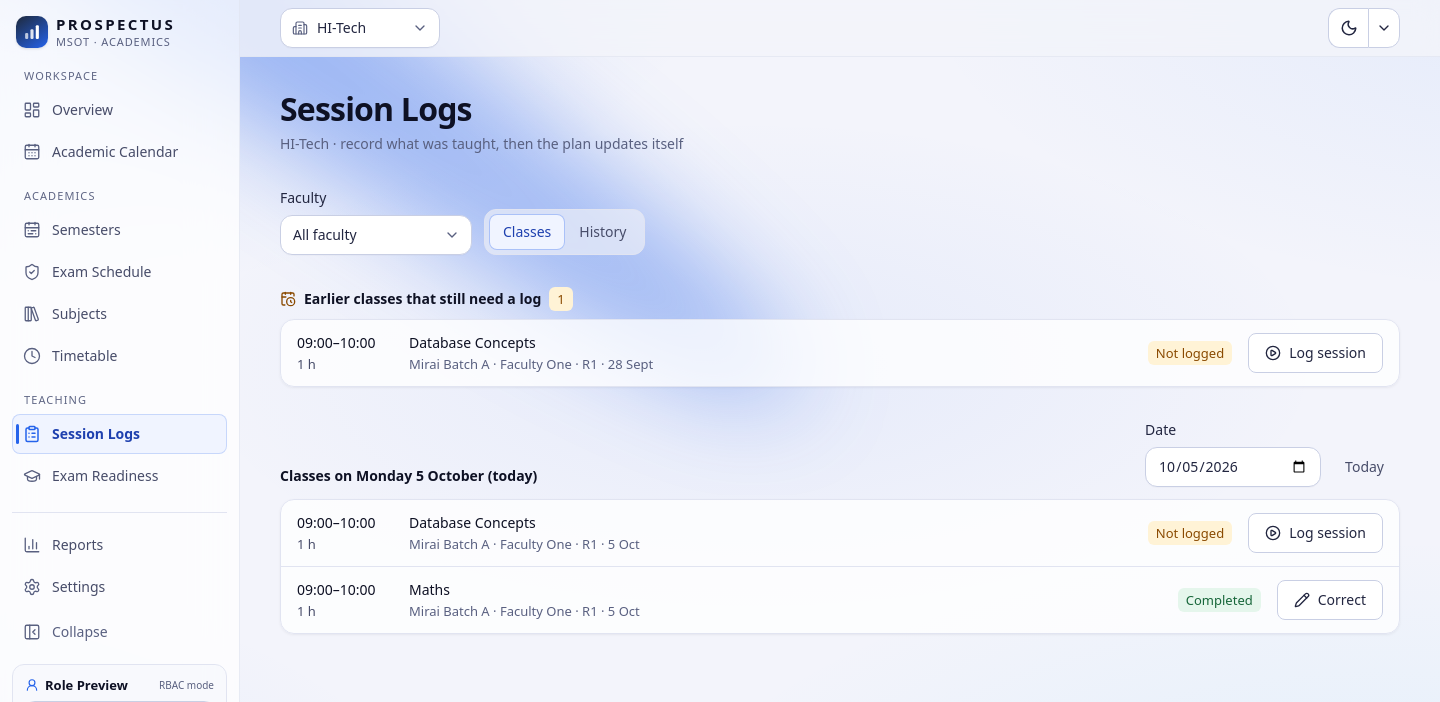
Scenario: Session Logs page › adapts the form to the outcome: cancelled asks for a reason and a reschedule date, merged asks for the primary session
Click the button with aria-label "Log session for Database Concepts, Mirai Batch A, 5 Oct" at (1316,533), box x1=1248 y1=513 x2=1383 y2=553
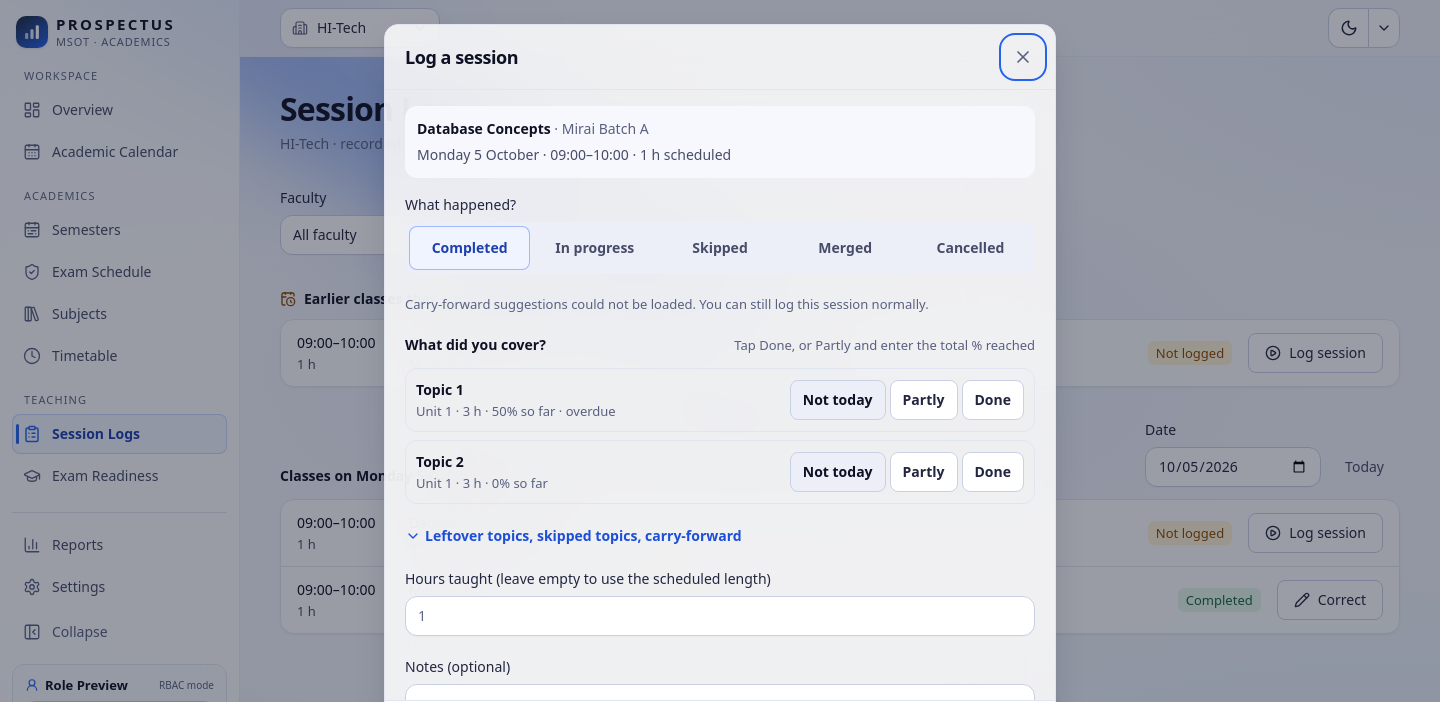
Now the text "Monday 5 October · 09:00–10:00 · 1 h scheduled" is shown, box x1=417 y1=145 x2=731 y2=164
Click the radio button labelled "Cancelled" at (970,248), box x1=910 y1=226 x2=1031 y2=270
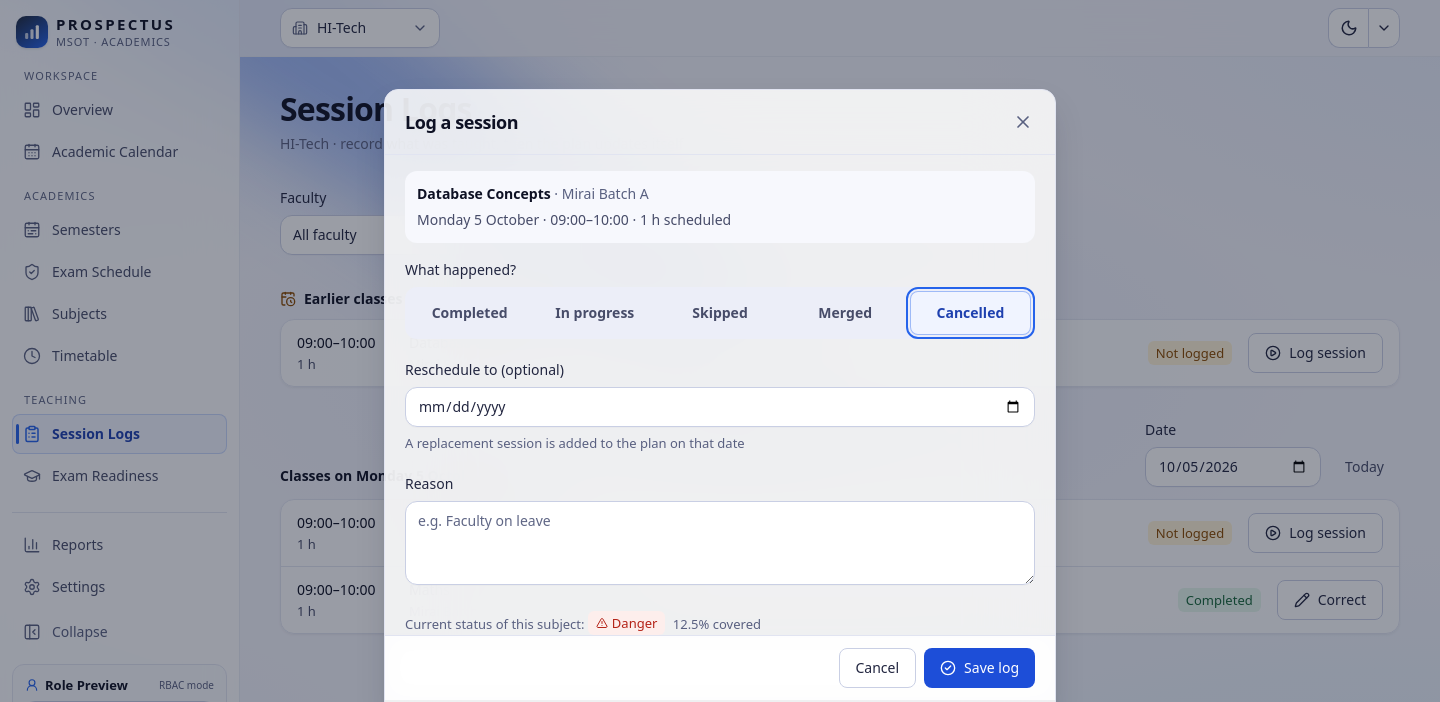
Now the text box labelled "Reason" is shown, box x1=405 y1=501 x2=1035 y2=585
Now the date field labelled "Reschedule to (optional)" is shown, box x1=405 y1=387 x2=1035 y2=427
Now the heading "What did you cover?" is gone
Click the radio button labelled "Merged" at (845,313), box x1=785 y1=291 x2=906 y2=335
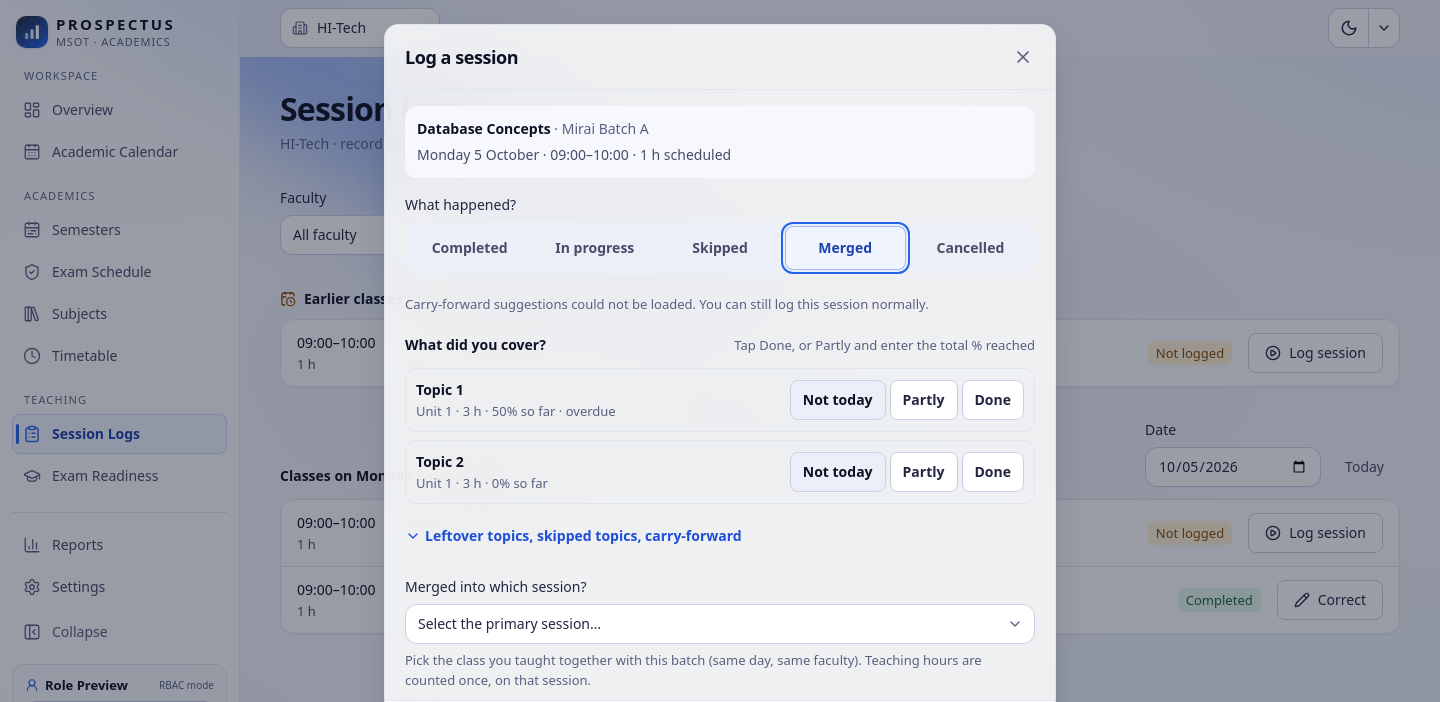
Now the heading "What did you cover?" is shown, box x1=405 y1=334 x2=546 y2=356
